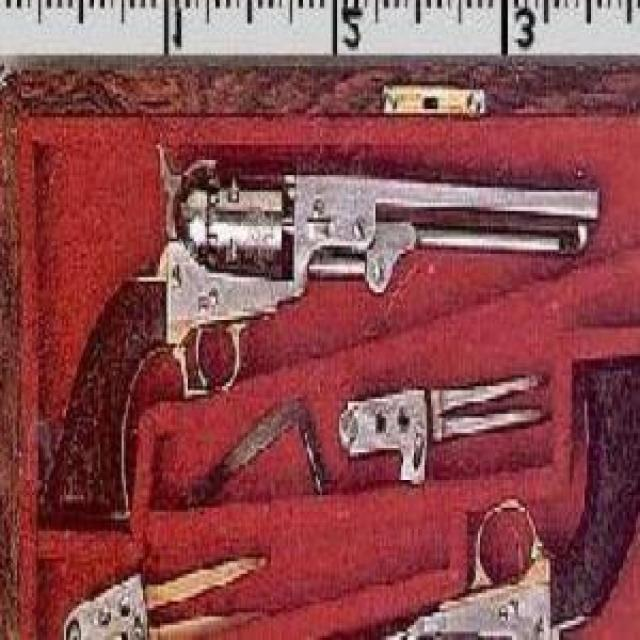pistol: (36, 143, 601, 526)
